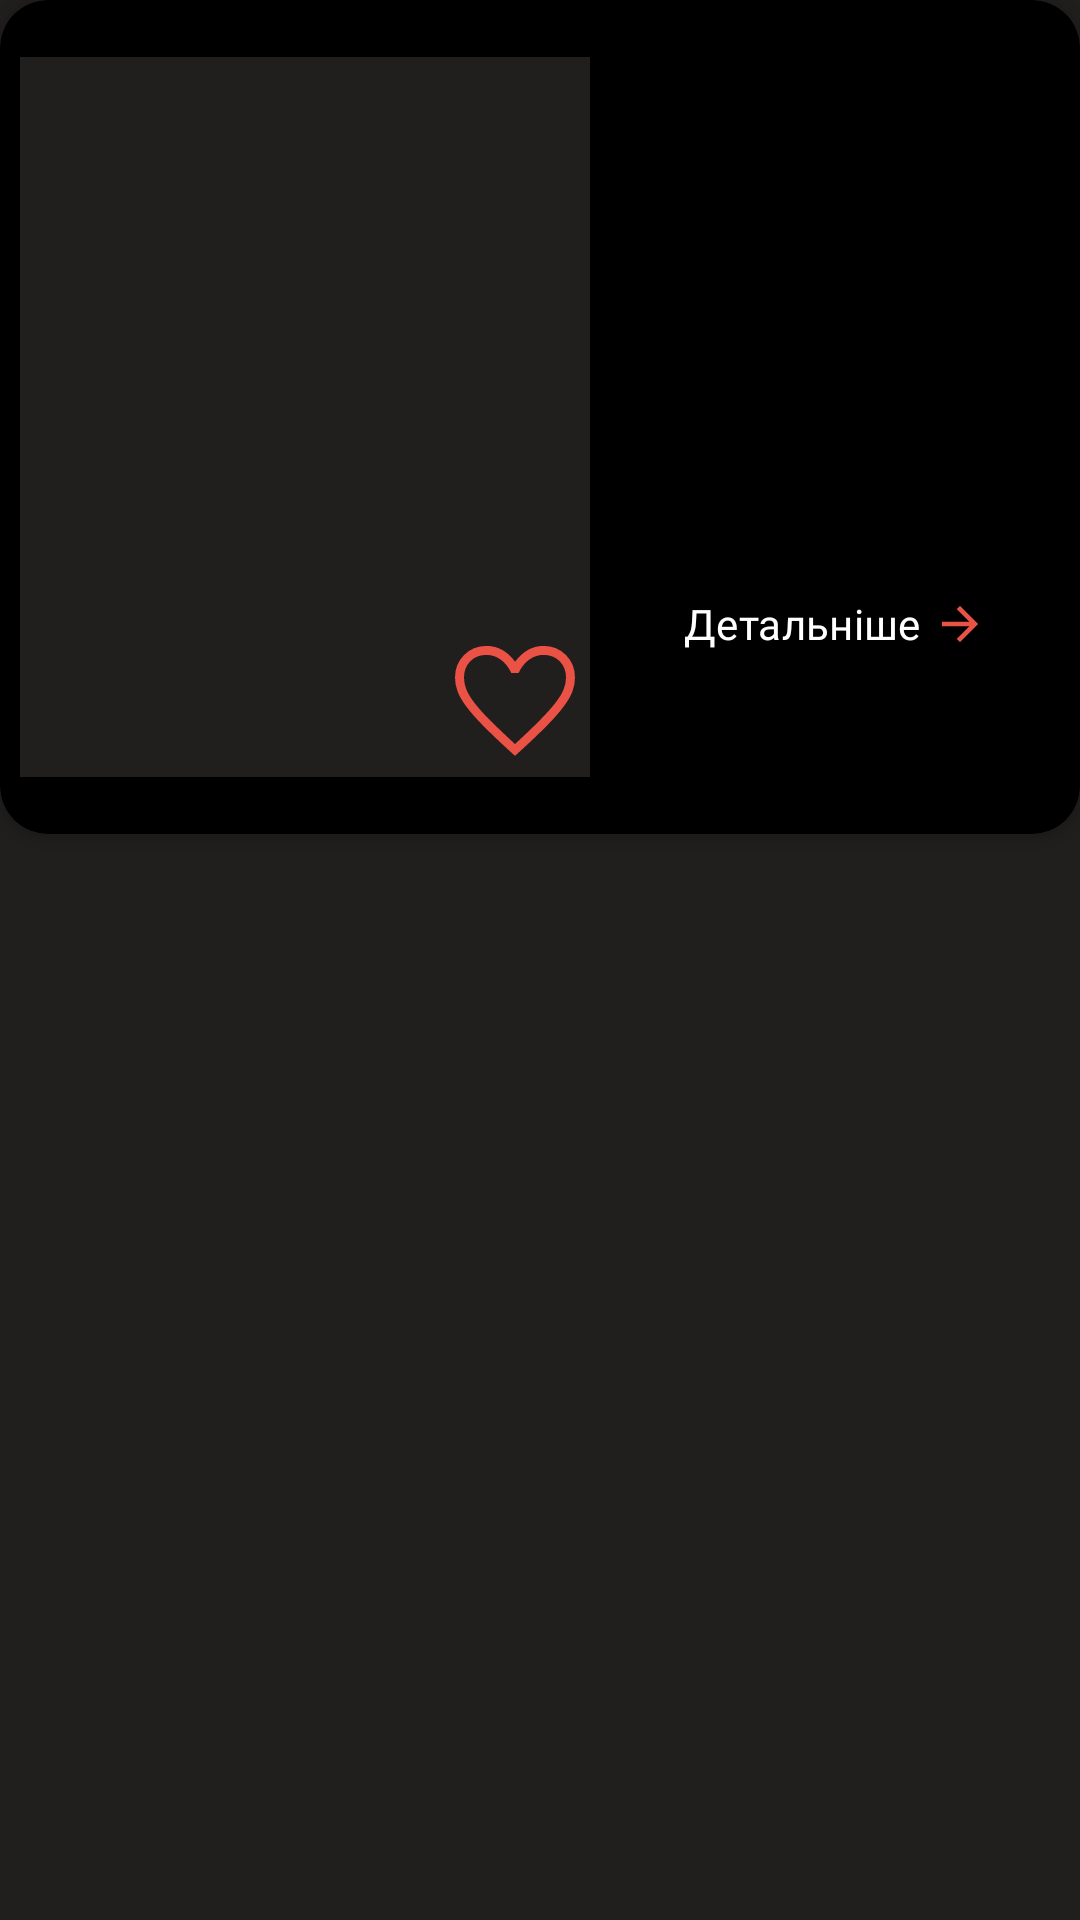

Screen size 1080 x 1920. Icon name, then its box in pixels as (x1, y1, x2, y2):
favorite: (455, 646, 575, 756)
